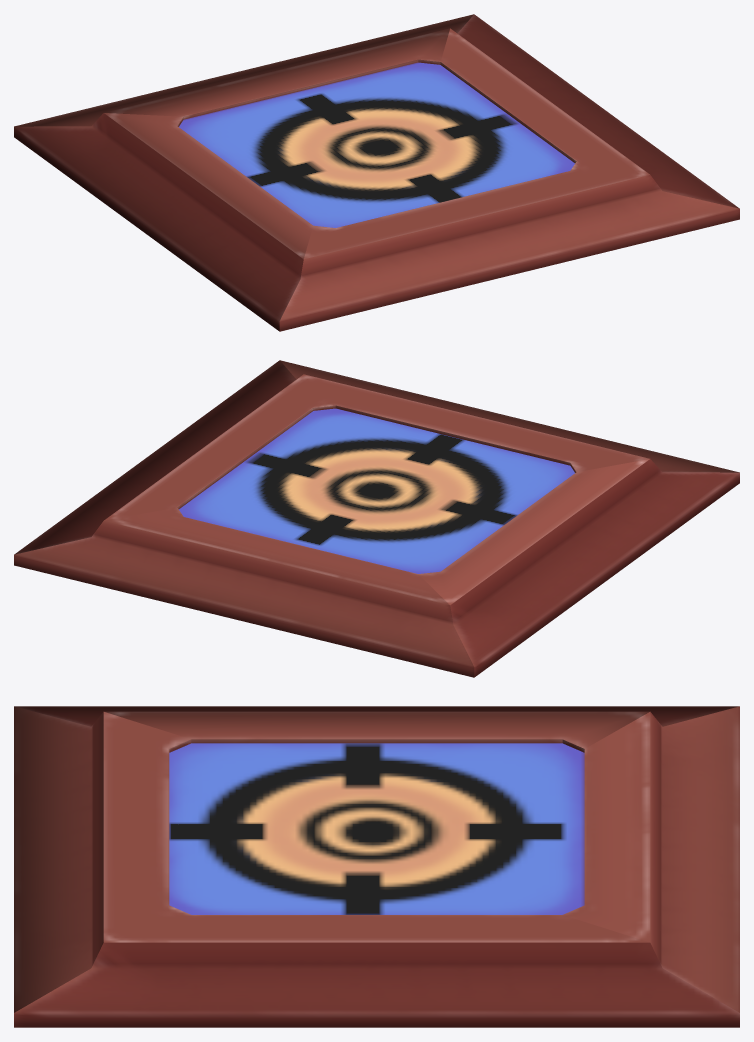
Rendered from a_SWApan_a.glb.
3 renders of one model, top to bottom at view 1: azimuth 30°, elevation 25°; view 2: azimuth 150°, elevation 25°; view 3: azimuth 270°, elevation 25°, orthographic. The views are drawn at different scales.
Parts seen in each view (by area): view 1: a_SWApan_a; view 2: a_SWApan_a; view 3: a_SWApan_a.
Boxes of the visible parts, x1=… form: a_SWApan_a: x1=14, y1=14, x2=739, y2=331; a_SWApan_a: x1=14, y1=360, x2=739, y2=677; a_SWApan_a: x1=14, y1=706, x2=739, y2=1027.
Size of the model in its own units: 1 by 0.0717 by 1.
Materials: 2 (2 with a texture image).
